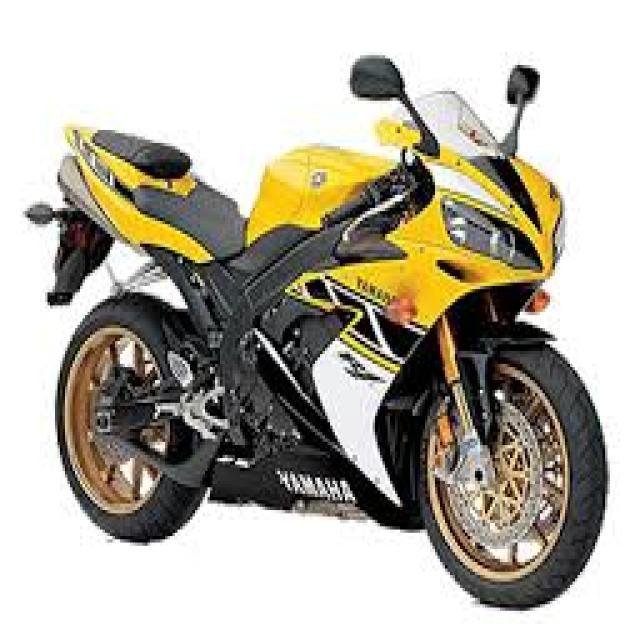Bike: (37, 46, 611, 616)
